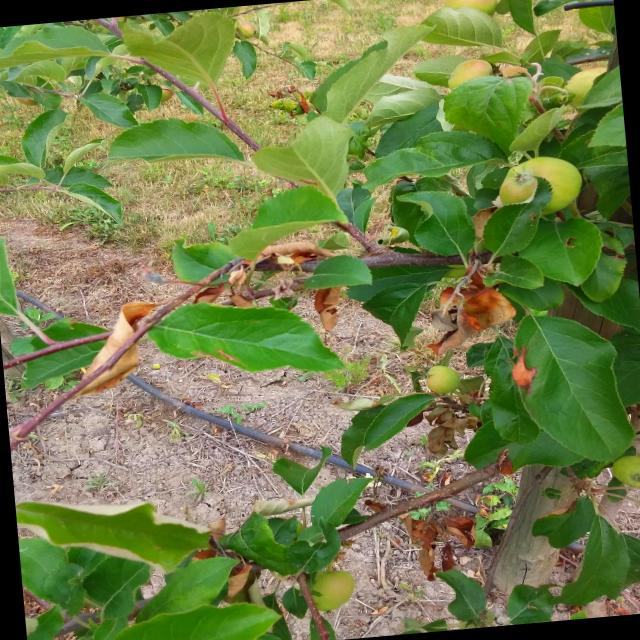-FireBlight-: (234, 232, 356, 328), (401, 496, 478, 590), (411, 380, 486, 460), (201, 542, 274, 624), (418, 253, 486, 336), (86, 299, 150, 384)
